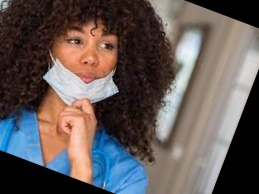mask_weared_incorrect: (45, 5, 125, 109)
